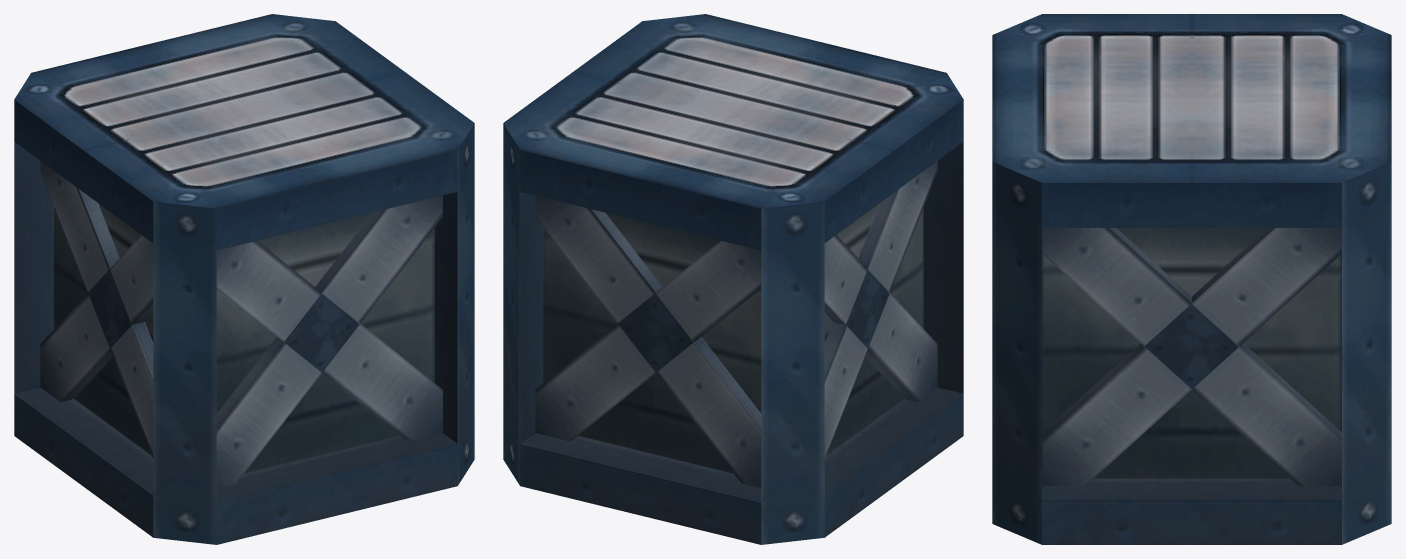
The model's file is MetalCrate.obj.
The picture shows the model from 3 angles, left to right: view 1: azimuth 30°, elevation 25°; view 2: azimuth 150°, elevation 25°; view 3: azimuth 270°, elevation 25°; orthographic projection. The views are drawn at different scales.
Visible parts, largest first — view 1: Object01; view 2: Object01; view 3: Object01.
Part boxes in pixels (x1=…): Object01: x1=14, y1=14, x2=474, y2=544; Object01: x1=503, y1=14, x2=963, y2=544; Object01: x1=992, y1=14, x2=1391, y2=544.
Size of the model in its own units: 24 by 24 by 24.
1 material, 1 textured.
